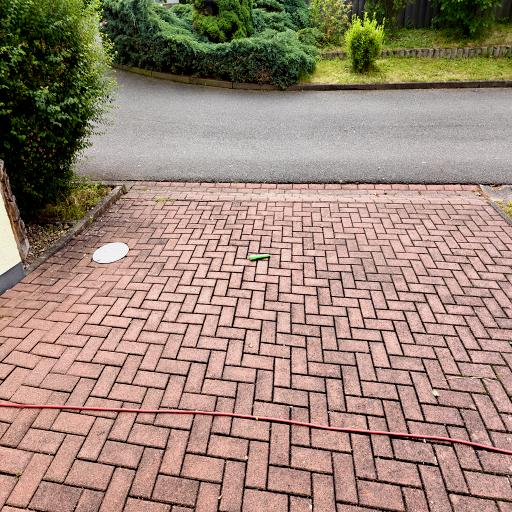Probe-Detection: (249, 254, 270, 261)
